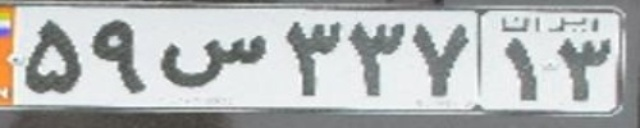1: (503, 37, 537, 100)
3: (347, 21, 403, 96), (286, 21, 338, 96), (556, 38, 612, 102)
5: (20, 19, 85, 94)
7: (411, 24, 470, 97)
9: (92, 19, 144, 94)
sin: (160, 35, 267, 88)
